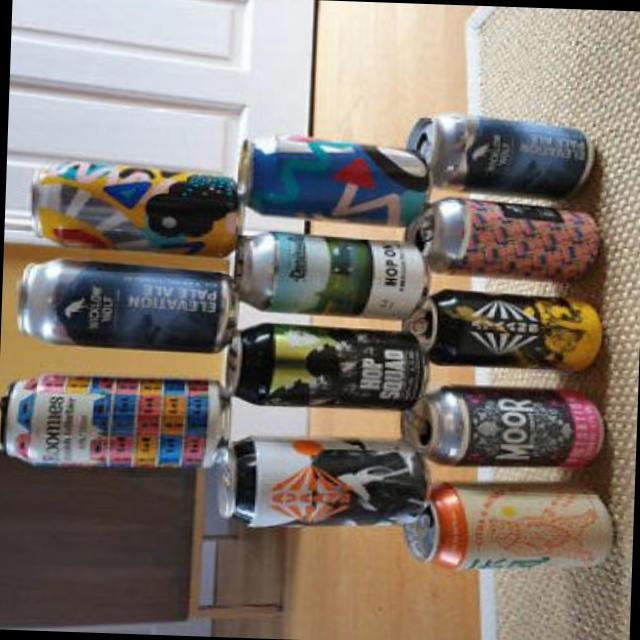metal: (0, 375, 216, 468), (15, 261, 231, 351), (30, 163, 236, 255), (223, 324, 425, 410), (401, 484, 609, 567), (218, 442, 421, 527), (237, 137, 426, 226), (231, 233, 426, 317), (405, 198, 597, 282), (405, 116, 592, 198), (409, 388, 602, 467), (409, 291, 599, 370)
